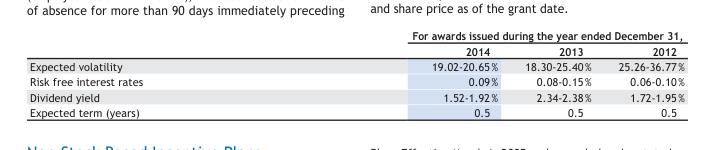table: (29, 28, 683, 118)
table column: (29, 28, 276, 118), (276, 28, 510, 118), (510, 28, 604, 118), (604, 28, 683, 118)
table column header: (29, 28, 683, 58)
table row: (29, 42, 683, 58), (29, 73, 683, 89), (29, 58, 683, 73), (29, 89, 683, 104), (29, 28, 683, 42), (29, 104, 683, 118)
table spanning cell: (276, 28, 683, 42)
